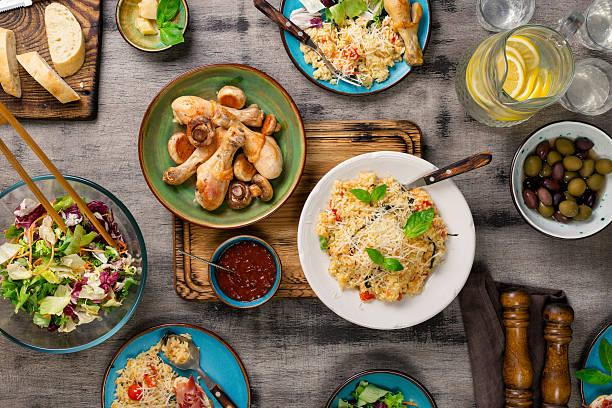Braised Crucian Carp: (294, 149, 469, 328), (135, 62, 308, 232), (4, 173, 148, 360), (101, 321, 253, 408), (289, 0, 429, 94)
